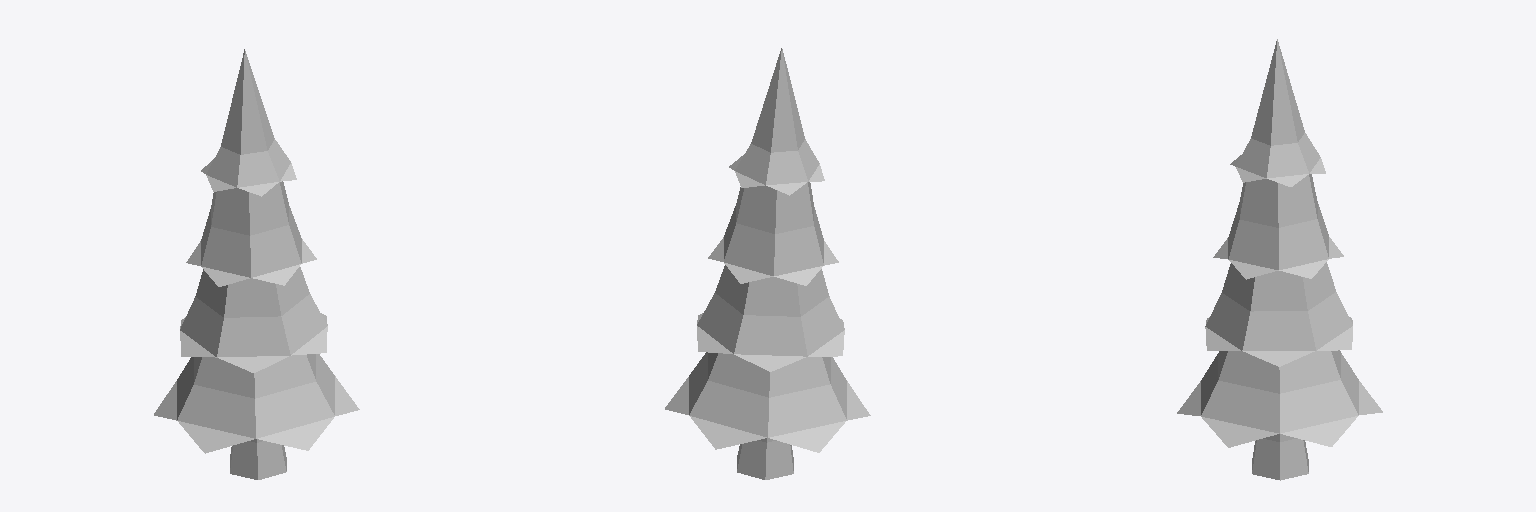
File: Pine_7.obj
The picture shows the model from 3 angles: view 1: azimuth 30°, elevation 25°; view 2: azimuth 150°, elevation 25°; view 3: azimuth 270°, elevation 25°; orthographic projection.
Parts seen in each view (by area): view 1: Pine_7; view 2: Pine_7; view 3: Pine_7.
Boxes of the visible parts, box(x1,y1,x2,y2) form: Pine_7: box(154, 49, 359, 479); Pine_7: box(665, 48, 870, 479); Pine_7: box(1177, 39, 1382, 480).
Size of the model in its own units: 1.18 by 3.01 by 1.33.